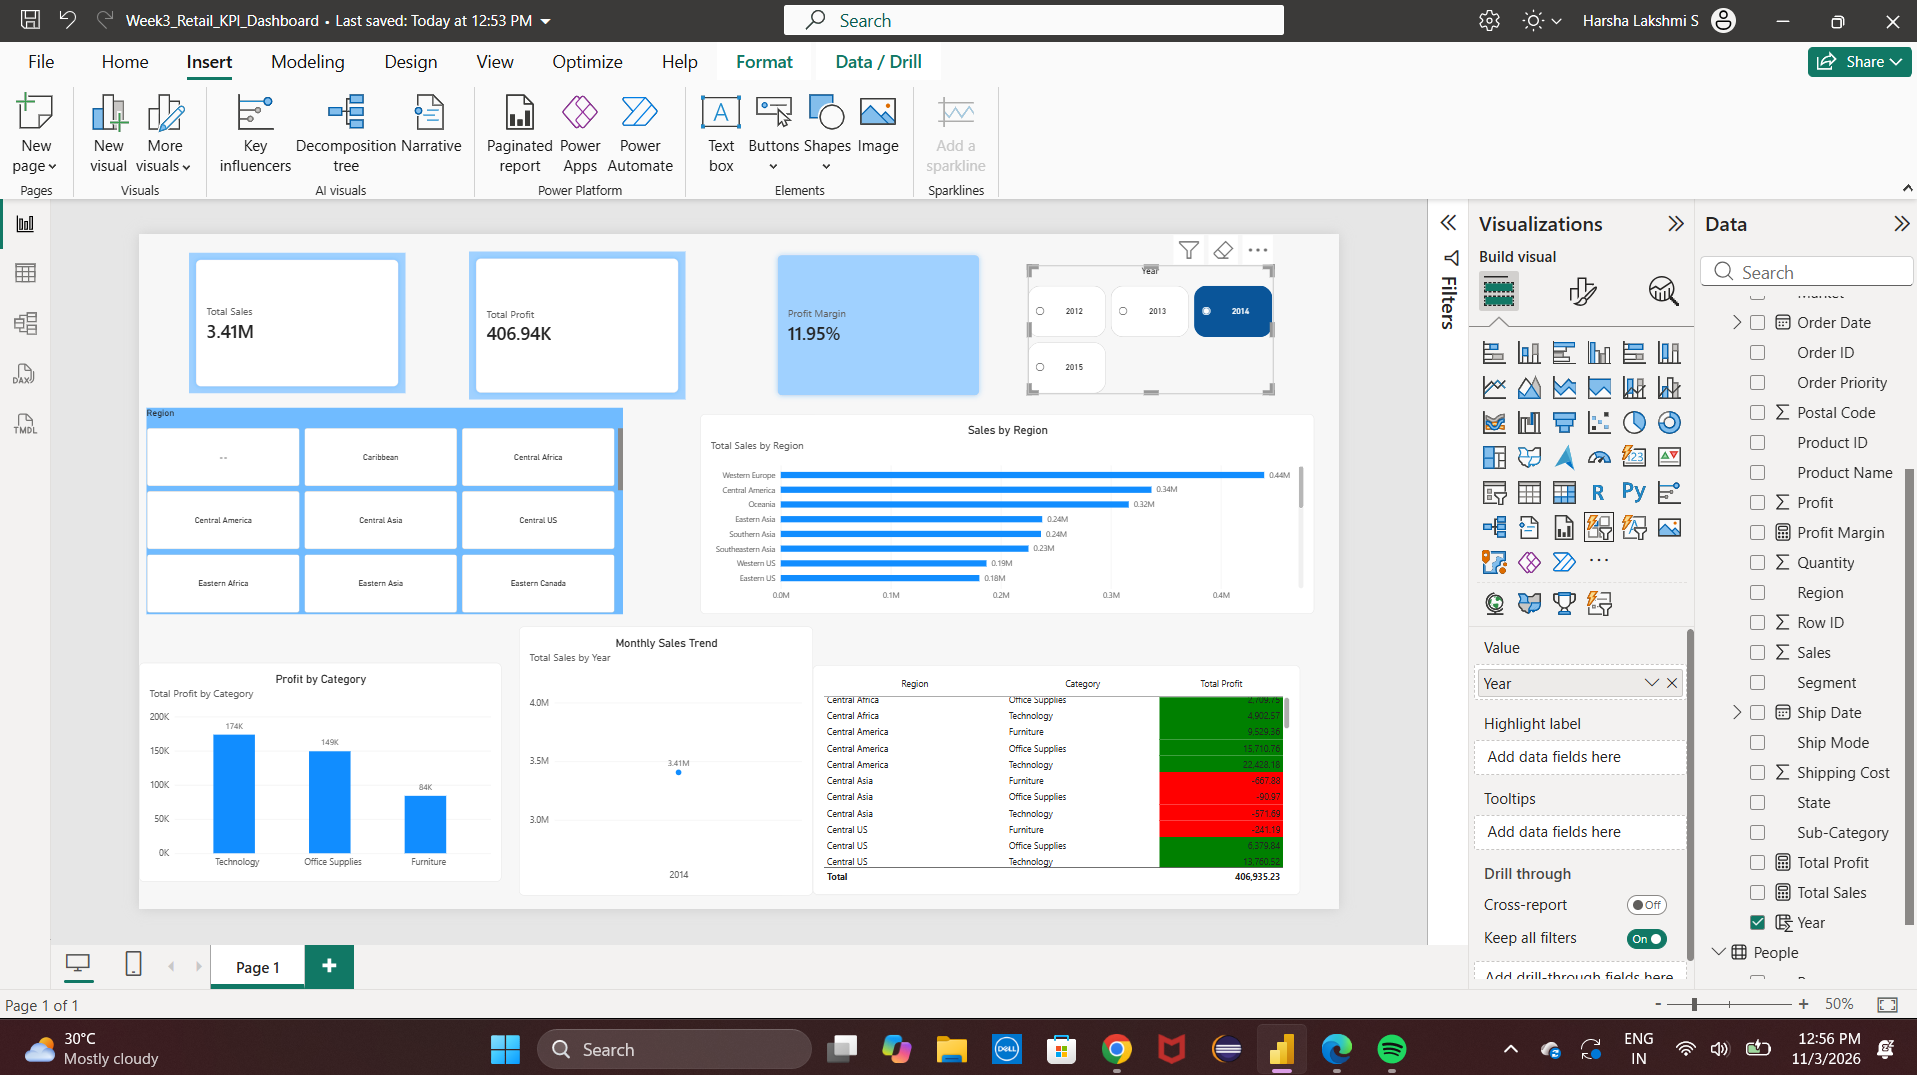

This screenshot's page, from the dashboard's own definition file:
{"tool":"powerbi","page":{"name":"Page 1","canvas":[1920,1080],"ordinal":0},"visuals":[{"type":"cardVisual","fields":{"Data":["Orders.Total Sales"]},"box":[80,30,347,225.5],"z":0},{"type":"cardVisual","fields":{"Data":["Orders.Total Profit"]},"box":[527.5,27.5,347,237.1],"z":1},{"type":"cardVisual","fields":{"Data":["Orders.Profit Margin"]},"box":[1010,22.5,347,248.7],"z":2},{"type":"advancedSlicerVisual","fields":{"Values":["People.Region"]},"box":[12.5,277.5,762.5,330],"z":3},{"type":"advancedSlicerVisual","fields":{"Values":["Orders.Year"]},"box":[1422.5,50,392.5,205],"z":4},{"type":"clusteredBarChart","title":"Sales by Region","fields":{"Category":["People.Region"],"Y":["Orders.Total Sales"]},"box":[897.5,287.5,982.5,320],"z":5},{"type":"clusteredColumnChart","title":"Profit by Category","fields":{"Category":["Orders.Category"],"Y":["Orders.Total Profit"]},"box":[0,685,580,350],"z":6},{"type":"lineChart","title":"Monthly Sales Trend","fields":{"Category":["Orders.Order Date.Variation.Date Hierarchy.Year","Orders.Order Date.Variation.Date Hierarchy.Quarter","Orders.Order Date.Variation.Date Hierarchy.Month","Orders.Order Date.Variation.Date Hierarchy.Day"],"Y":["Orders.Total Sales"]},"box":[607.5,627.5,470,430],"z":7},{"type":"tableEx","fields":{"Values":["Orders.Region","Orders.Category","Orders.Total Profit"]},"box":[1077.5,690,780,367.5],"z":8}]}

Visuals, with their boxes on the page's 1920x1080 design canvas (x1, y1, x2, y2). These are canvas units, not pixel positions in the 1917x1075 screenshot, which may show the page scaled, cropped or inside an application window:
cardVisual - Orders.Total Sales: 80:30:427:256
cardVisual - Orders.Total Profit: 528:28:874:265
cardVisual - Orders.Profit Margin: 1010:22:1357:271
advancedSlicerVisual - People.Region: 12:278:775:608
advancedSlicerVisual - Orders.Year: 1422:50:1815:255
"Sales by Region" clusteredBarChart: 898:288:1880:608
"Profit by Category" clusteredColumnChart: 0:685:580:1035
"Monthly Sales Trend" lineChart: 608:628:1078:1058
tableEx - Orders.Region x Orders.Category: 1078:690:1858:1058
